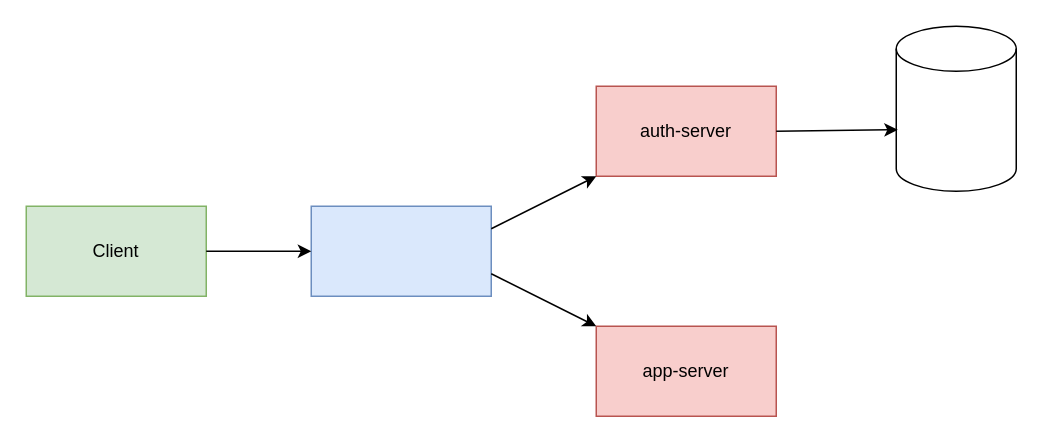
This 1043x443 diagram has some shape labels left out. The shapes that lost their labels are listed below. From the top down, each one's box as (x1, y1, x2, y2) in pixels, then its label:
(895, 25, 1016, 191): DB Store session and profile
(310, 205, 491, 296): Kong
